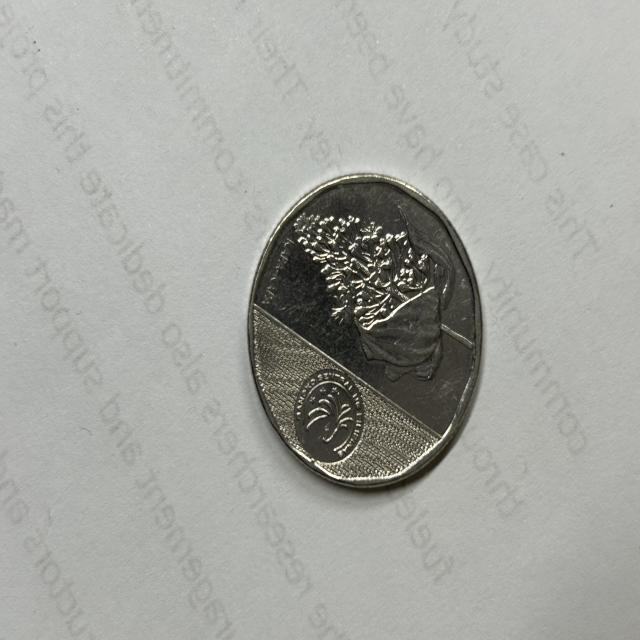10_New_Back: (286, 197, 478, 381)
